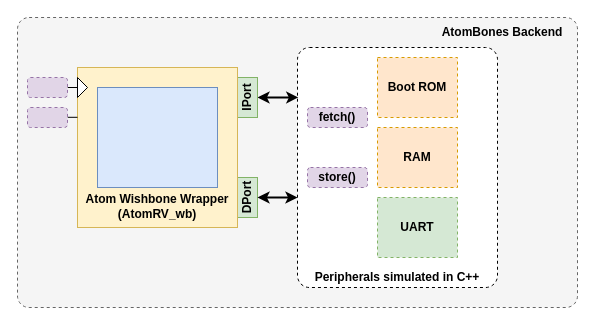
Some shapes in this 595 by 325 pixel diagram are drawn without their labels. Here are the shapes that lost their labels. From the top down, the centre of each, then its label:
(47,87): tick()
(47,117): reset()
(157,137): Atom CPU (AtomRV)
